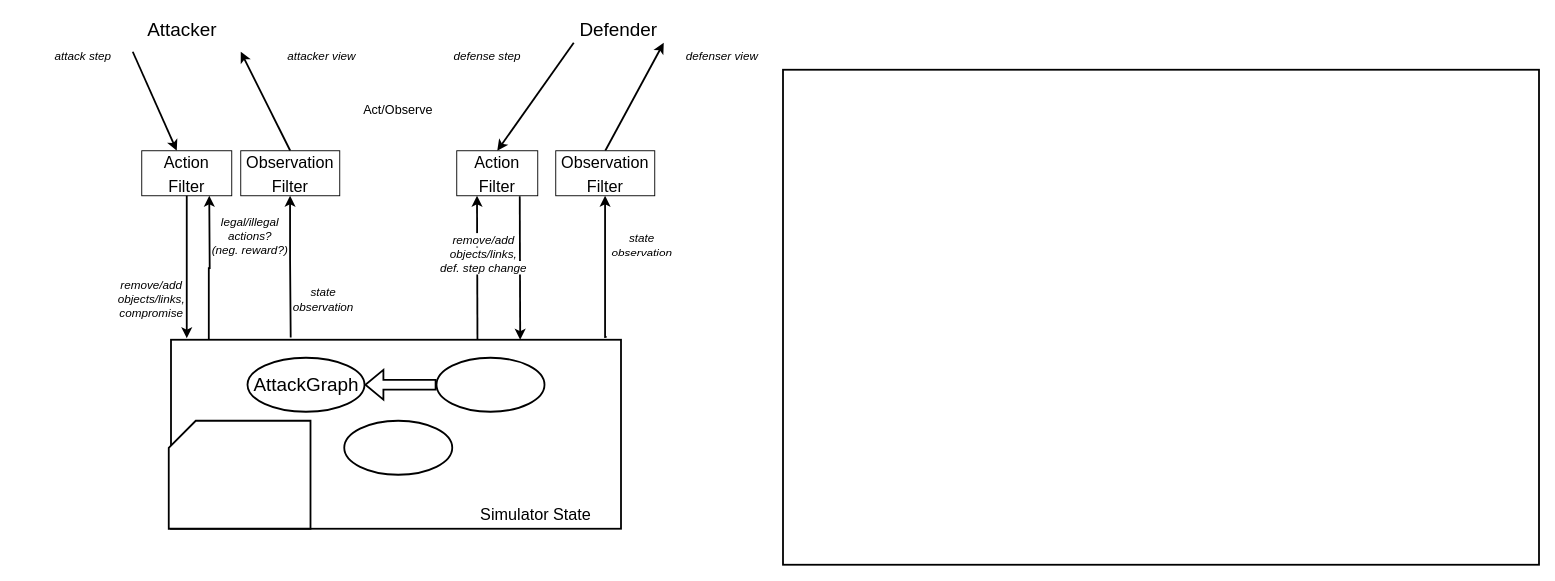
The diagram is 1555 pixels wide and 581 high, and some of its shapes have lost their labels. The box of each missing label's shape, as (x1, y1, x2, y2) in pixels:
Extra Info: - Time - Position of Attacker - Attack Surface - Compromised steps: (167, 419, 311, 529)
Instance Model: (435, 356, 545, 412)
Language: (343, 419, 453, 475)
